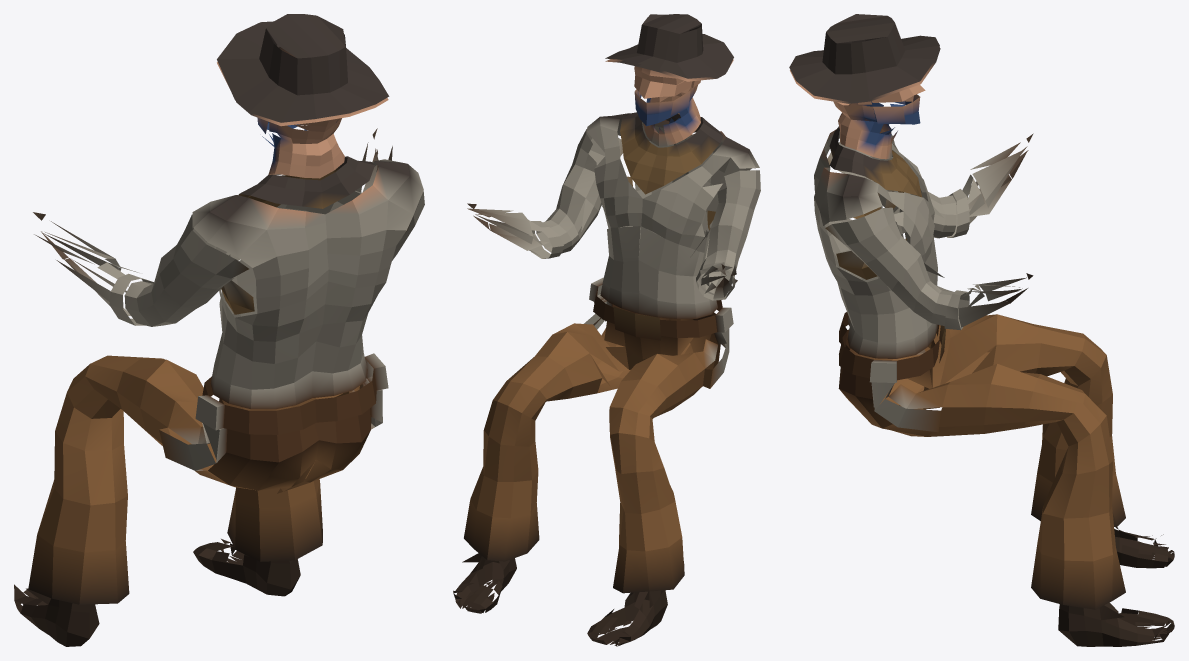
File: man_4_drive.fbx
3 views of the same model, side by side, from view 1: azimuth 30°, elevation 25°; view 2: azimuth 150°, elevation 25°; view 3: azimuth 270°, elevation 25° (orthographic). The views are drawn at different scales.
Visible parts, largest first — view 1: cowboy; view 2: cowboy; view 3: cowboy.
Boxes of the visible parts, box(x1,y1,x2,y2) form: cowboy: box(14, 14, 424, 646); cowboy: box(453, 14, 760, 646); cowboy: box(789, 14, 1174, 646).
Size of the model in its own units: 0.4327 by 0.7852 by 0.4748.
